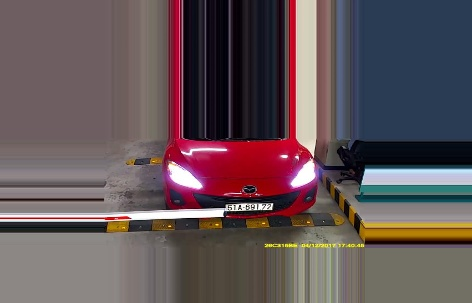plate: (225, 200, 274, 212)
